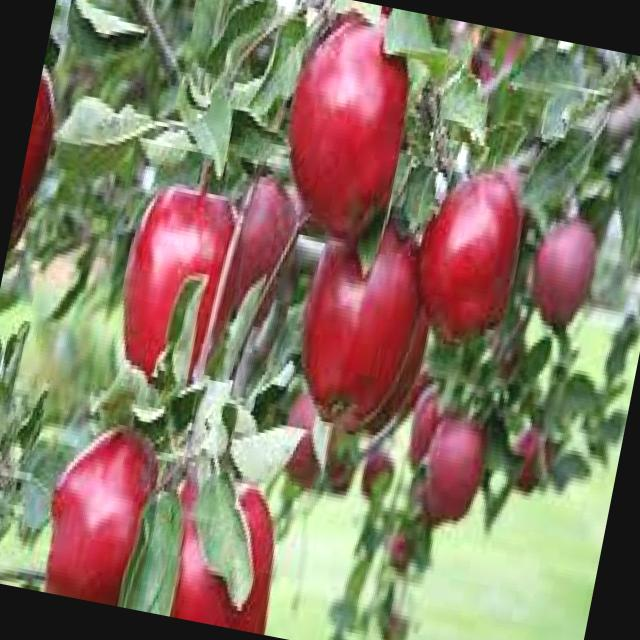Apple: (267, 4, 424, 247), (282, 204, 433, 436), (104, 173, 250, 392), (401, 152, 535, 352), (33, 414, 166, 606), (154, 464, 294, 631), (212, 168, 306, 332), (8, 64, 64, 255), (522, 208, 602, 332), (412, 408, 492, 528)
